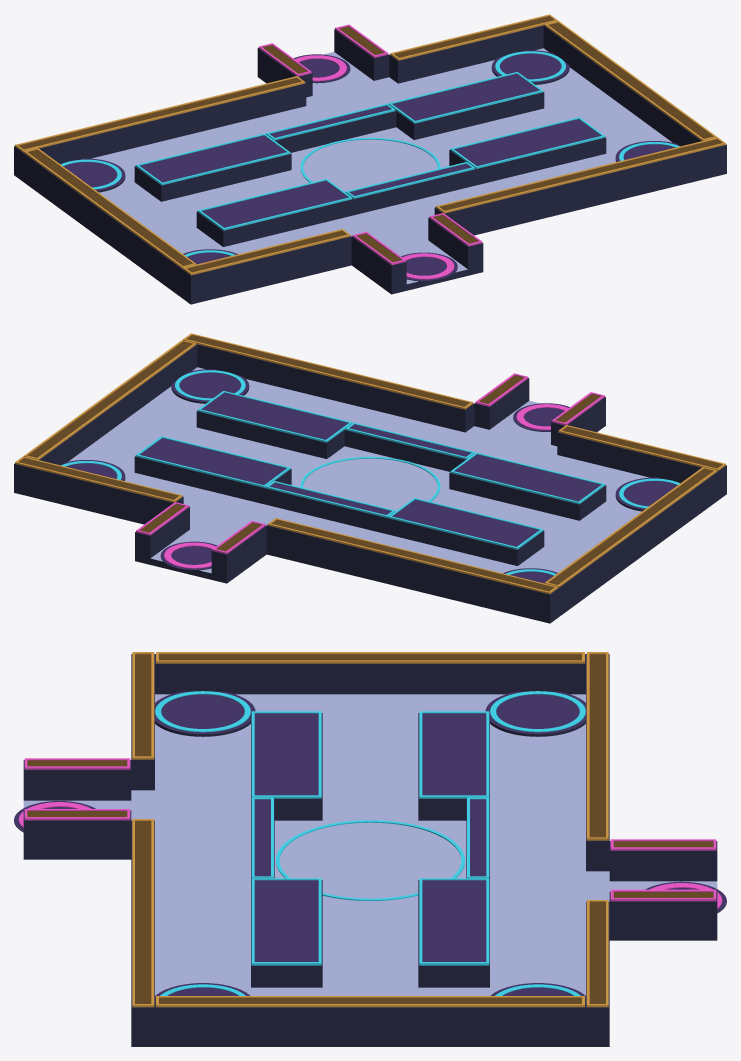
File: Stage03_Static.obj
The picture shows the model from 3 angles, top to bottom: view 1: azimuth 30°, elevation 25°; view 2: azimuth 150°, elevation 25°; view 3: azimuth 270°, elevation 25°; orthographic projection. The views are drawn at different scales.
Visible parts, largest first — view 1: Floor_Main, Rim_TopL, Rim_BottomR, Rim_Right, Block_SE, Block_NE, Block_SW, Rim_Left, Block_NW, Rim_TopR, Rim_BottomL, Block_N (+14 smaller); view 2: Floor_Main, Rim_BottomR, Rim_TopL, Rim_Right, Block_NE, Block_SE, Block_NW, Rim_Left, Block_SW, Rim_BottomL, Rim_TopR, Block_S (+14 smaller); view 3: Floor_Main, Rim_Left, Rim_Right, Block_NW, Block_SW, Block_NE, Block_SE, Rim_TopL, Rim_BottomR, Lane_TopR, Lane_BottomR, Lane_BottomL (+12 smaller).
Part boxes in pixels (x1=…): Floor_Main: x1=14, y1=48, x2=726, y2=304; Rim_TopL: x1=434, y1=137, x2=726, y2=230; Rim_BottomR: x1=14, y1=76, x2=306, y2=174; Rim_Right: x1=23, y1=148, x2=196, y2=291; Block_SE: x1=134, y1=133, x2=291, y2=201; Block_NE: x1=196, y1=179, x2=353, y2=246; Block_SW: x1=388, y1=72, x2=544, y2=139; Rim_Left: x1=543, y1=21, x2=717, y2=146; Block_NW: x1=449, y1=117, x2=606, y2=185; Rim_TopR: x1=182, y1=229, x2=351, y2=297; Rim_BottomL: x1=389, y1=14, x2=557, y2=83; Block_N: x1=345, y1=162, x2=475, y2=215; Floor_Main: x1=14, y1=367, x2=726, y2=623; Rim_BottomR: x1=266, y1=518, x2=558, y2=616; Rim_TopL: x1=183, y1=333, x2=474, y2=432; Rim_Right: x1=544, y1=467, x2=717, y2=610; Block_NE: x1=449, y1=452, x2=606, y2=520; Block_SE: x1=387, y1=498, x2=544, y2=565; Block_NW: x1=196, y1=391, x2=352, y2=458; Rim_Left: x1=23, y1=340, x2=197, y2=465; Block_SW: x1=134, y1=436, x2=291, y2=504; Rim_BottomL: x1=14, y1=456, x2=183, y2=519; Rim_TopR: x1=557, y1=425, x2=726, y2=493; Block_S: x1=265, y1=481, x2=395, y2=534; Floor_Main: x1=131, y1=694, x2=609, y2=1046; Rim_Left: x1=155, y1=996, x2=585, y2=1038; Rim_Right: x1=155, y1=652, x2=585, y2=694; Block_NW: x1=251, y1=878, x2=322, y2=987; Block_SW: x1=418, y1=878, x2=489, y2=987; Block_NE: x1=251, y1=711, x2=322, y2=820; Block_SE: x1=418, y1=711, x2=489, y2=820; Rim_TopL: x1=131, y1=819, x2=154, y2=1038; Rim_BottomR: x1=586, y1=652, x2=609, y2=871; Lane_TopR: x1=23, y1=758, x2=131, y2=800; Lane_BottomR: x1=609, y1=839, x2=717, y2=881; Lane_BottomL: x1=609, y1=889, x2=717, y2=931.
Size of the model in its own units: 35 by 1.9 by 29.8.
